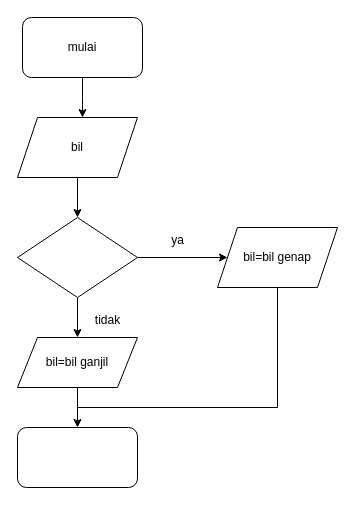
The diagram is 355 pixels wide and 505 high, and some of its shapes have lost their labels. Here are the shapes that lost their labels. From the top down, the centre of each, then its label:
At point (77, 257): "bil mod2=0".
At point (77, 457): "selesai".
